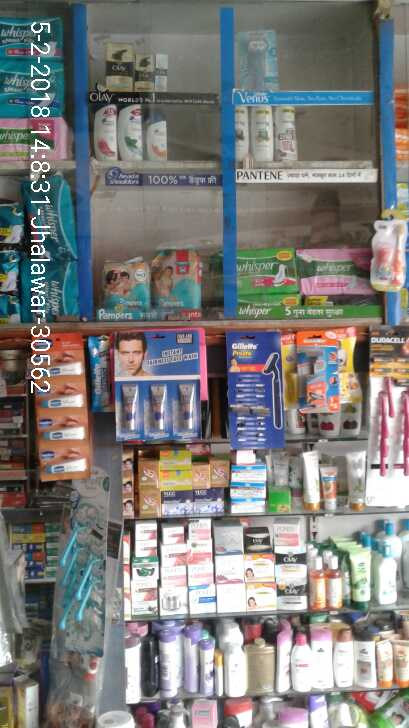gillete: (230, 332, 284, 450)
venus: (50, 473, 114, 655), (371, 362, 409, 495), (237, 31, 280, 93)
